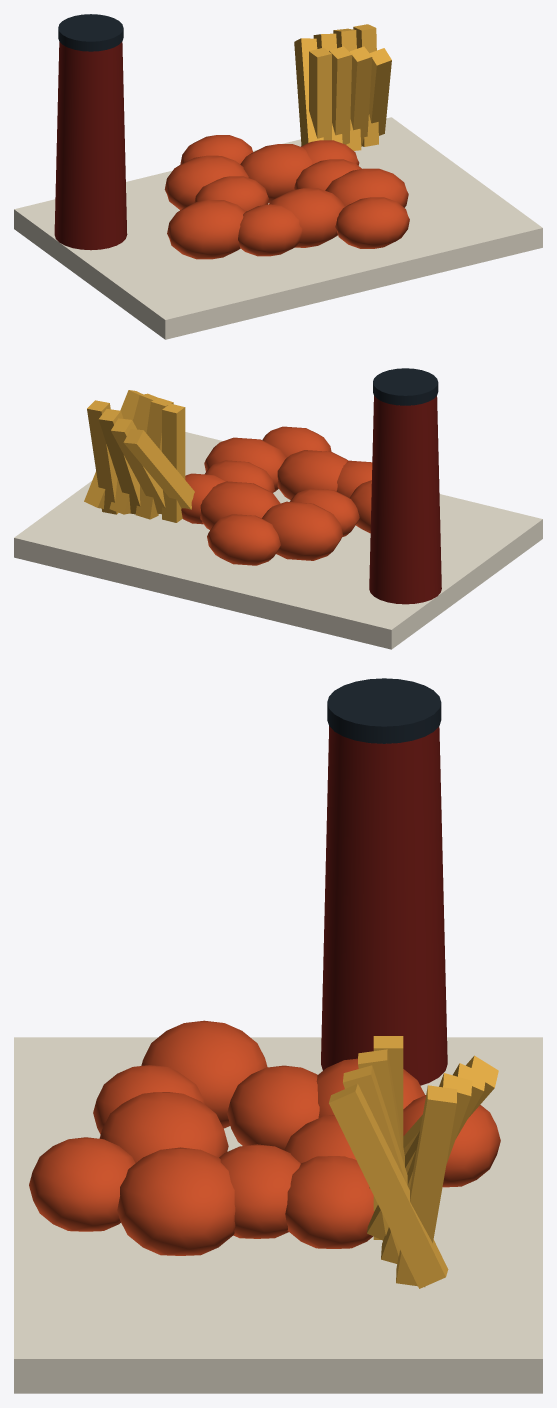
Rendered from campaign-55.glb.
3 renders of one model, top to bottom at view 1: azimuth 30°, elevation 25°; view 2: azimuth 150°, elevation 25°; view 3: azimuth 270°, elevation 25°, orthographic. The views are drawn at different scales.
Bounding box in the file's own units: 0.36 × 0.2065 × 0.25.
